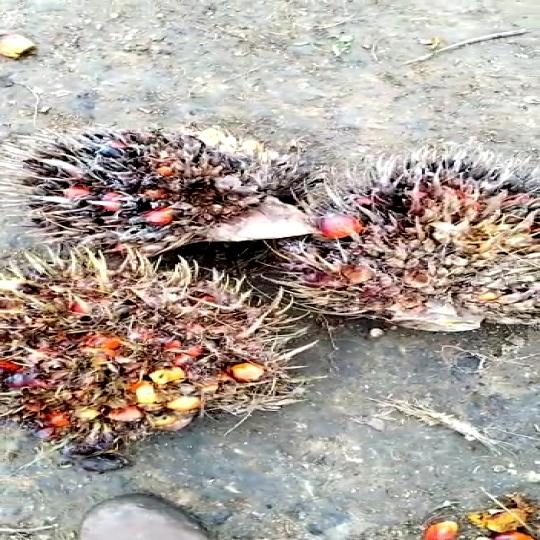terlalu masak: (251, 139, 540, 334), (0, 256, 294, 441), (0, 128, 284, 260)
